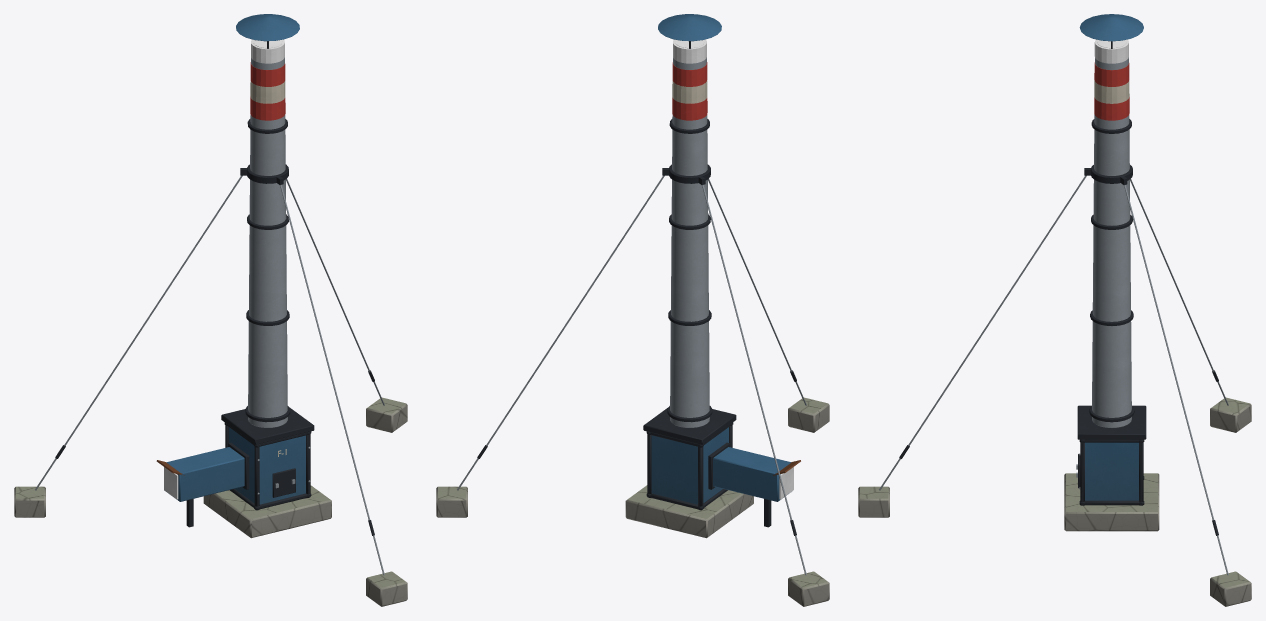
The model's file is chimney_steel.glb.
The picture shows the model from 3 angles, left to right: view 1: azimuth 30°, elevation 25°; view 2: azimuth 150°, elevation 25°; view 3: azimuth 270°, elevation 25°; orthographic projection.
Visible parts, largest first — view 1: chimney_steel; view 2: chimney_steel; view 3: chimney_steel.
Part boxes in pixels (x1,y1,x2,y2): chimney_steel: (14, 14, 407, 606); chimney_steel: (436, 14, 829, 606); chimney_steel: (858, 14, 1251, 606).
Size of the model in its own units: 8.58 by 10.33 by 7.44.
Materials: 11 (11 with a texture image).
